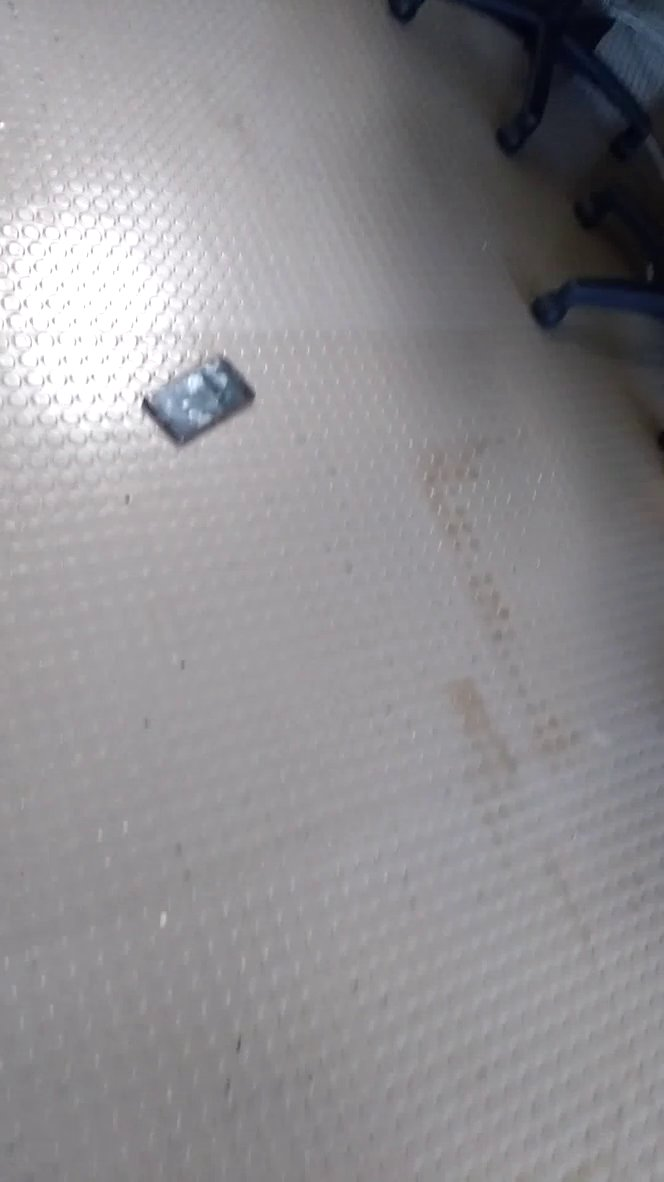phone: (138, 348, 262, 458)
